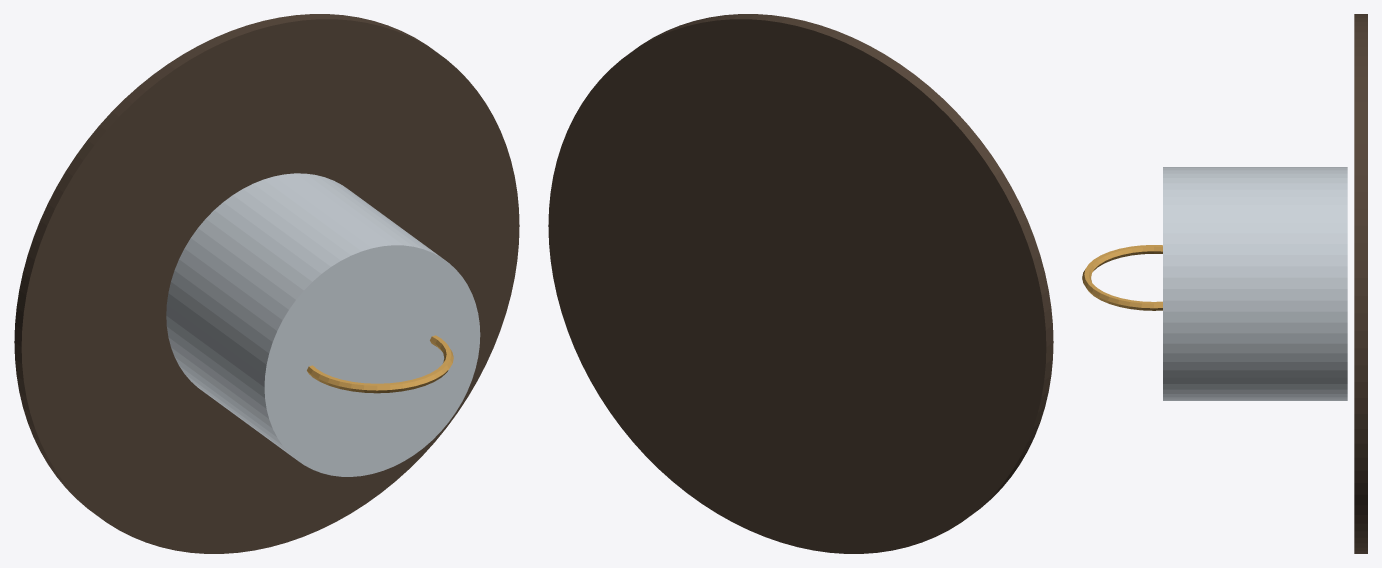
File: 11_barrel_aged_negroni.glb
3 renders of one model, left to right at view 1: azimuth 30°, elevation 25°; view 2: azimuth 150°, elevation 25°; view 3: azimuth 270°, elevation 25°, orthographic. The views are drawn at different scales.
Visible parts, largest first — view 1: dark_wood_bar, heavy_crystal_rocks_glass, orange_peel_twist; view 2: dark_wood_bar; view 3: heavy_crystal_rocks_glass, dark_wood_bar, orange_peel_twist.
Part boxes in pixels (x1=…): dark_wood_bar: x1=14, y1=14, x2=519, y2=553; heavy_crystal_rocks_glass: x1=166, y1=173, x2=480, y2=476; orange_peel_twist: x1=307, y1=335, x2=453, y2=393; dark_wood_bar: x1=548, y1=14, x2=1053, y2=553; heavy_crystal_rocks_glass: x1=1163, y1=167, x2=1347, y2=400; dark_wood_bar: x1=1354, y1=14, x2=1367, y2=553; orange_peel_twist: x1=1082, y1=245, x2=1162, y2=310.
Size of the model in its own units: 0.24 by 0.24 by 0.127.
